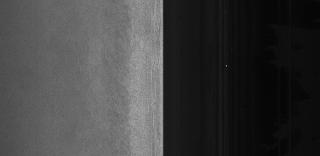silk spot: (108, 46, 134, 120)
